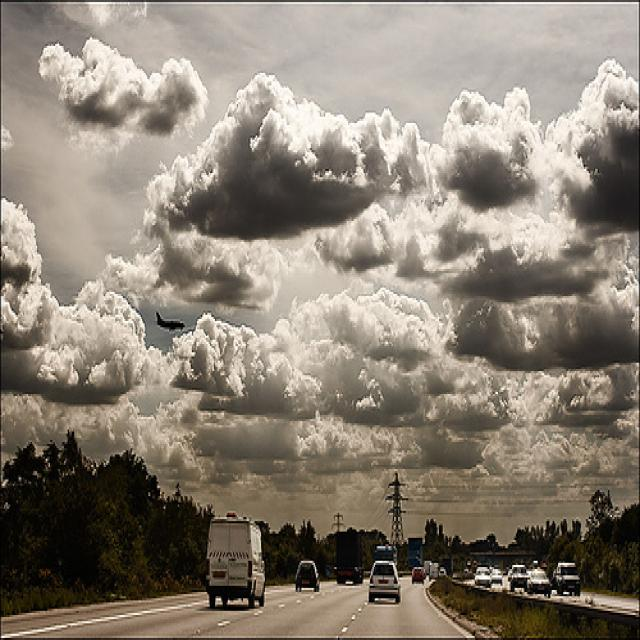Vehicle: (206, 510, 266, 608), (368, 561, 402, 604), (337, 532, 365, 584), (554, 562, 580, 598), (296, 561, 319, 591), (508, 564, 529, 592), (472, 566, 492, 590), (528, 569, 550, 590), (408, 537, 422, 569), (474, 567, 492, 587), (373, 545, 395, 560), (412, 566, 424, 585), (429, 562, 440, 582), (491, 568, 502, 582), (463, 568, 469, 574), (439, 570, 446, 574)
